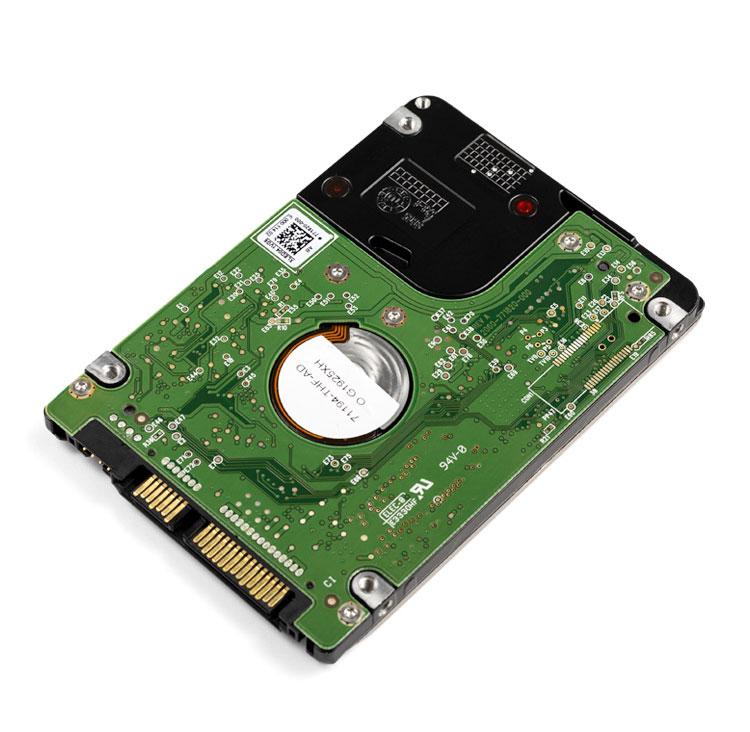internal HDD: (41, 96, 705, 666)
